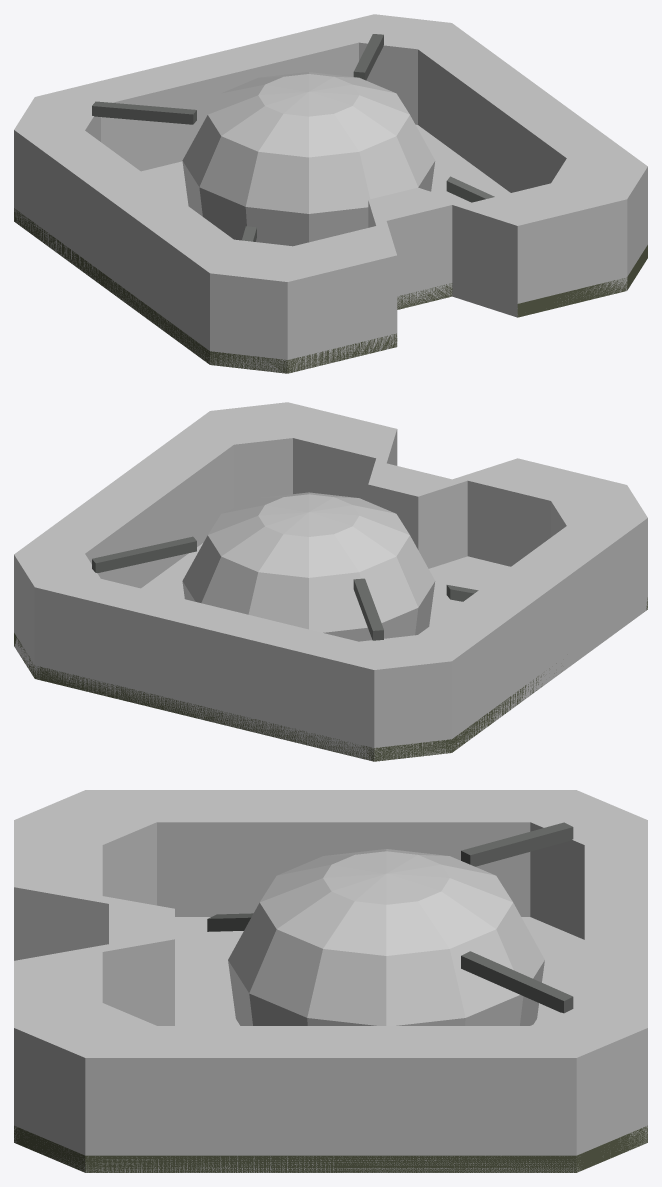
Rendered from mech_processor_a.obj.
3 renders of one model, top to bottom at view 1: azimuth 30°, elevation 25°; view 2: azimuth 150°, elevation 25°; view 3: azimuth 270°, elevation 25°, orthographic. The views are drawn at different scales.
Visible parts, largest first — view 1: mech_processor_a_26, mech_processor_a_8, mech_processor_a_24, mech_processor_a_4, mech_processor_a_12, mech_processor_a_20, mech_processor_a_10, mech_processor_a_0, mech_processor_a_16, mech_processor_a_18, mech_processor_a_2, mech_processor_a_22 (+10 smaller); view 2: mech_processor_a_4, mech_processor_a_26, mech_processor_a_8, mech_processor_a_24, mech_processor_a_12, mech_processor_a_6, mech_processor_a_0, mech_processor_a_20, mech_processor_a_22, mech_processor_a_2, mech_processor_a_25, mech_processor_a_16 (+13 smaller); view 3: mech_processor_a_24, mech_processor_a_26, mech_processor_a_8, mech_processor_a_4, mech_processor_a_0, mech_processor_a_22, mech_processor_a_25, mech_processor_a_2, mech_processor_a_6, mech_processor_a_10, mech_processor_a_14, mech_processor_a_12 (+14 smaller).
Part boxes in pixels (x1=…): mech_processor_a_26: x1=182, y1=72, x2=435, y2=246; mech_processor_a_8: x1=14, y1=130, x2=233, y2=358; mech_processor_a_24: x1=423, y1=23, x2=640, y2=192; mech_processor_a_4: x1=44, y1=16, x2=365, y2=171; mech_processor_a_12: x1=287, y1=226, x2=393, y2=373; mech_processor_a_20: x1=468, y1=185, x2=627, y2=302; mech_processor_a_10: x1=210, y1=240, x2=292, y2=372; mech_processor_a_0: x1=14, y1=208, x2=647, y2=373; mech_processor_a_16: x1=370, y1=188, x2=452, y2=309; mech_processor_a_18: x1=419, y1=188, x2=517, y2=317; mech_processor_a_2: x1=365, y1=14, x2=441, y2=124; mech_processor_a_22: x1=551, y1=161, x2=647, y2=273; mech_processor_a_4: x1=43, y1=578, x2=365, y2=759; mech_processor_a_26: x1=182, y1=492, x2=435, y2=641; mech_processor_a_8: x1=423, y1=522, x2=641, y2=748; mech_processor_a_24: x1=14, y1=416, x2=233, y2=588; mech_processor_a_12: x1=467, y1=459, x2=625, y2=566; mech_processor_a_6: x1=365, y1=635, x2=441, y2=761; mech_processor_a_0: x1=14, y1=597, x2=647, y2=761; mech_processor_a_20: x1=288, y1=402, x2=393, y2=501; mech_processor_a_22: x1=210, y1=403, x2=292, y2=504; mech_processor_a_2: x1=16, y1=553, x2=98, y2=676; mech_processor_a_25: x1=141, y1=543, x2=510, y2=626; mech_processor_a_16: x1=370, y1=463, x2=451, y2=545; mech_processor_a_24: x1=102, y1=1026, x2=576, y2=1172; mech_processor_a_26: x1=228, y1=849, x2=544, y2=1025; mech_processor_a_8: x1=102, y1=790, x2=575, y2=916; mech_processor_a_4: x1=584, y1=825, x2=647, y2=1022; mech_processor_a_0: x1=14, y1=1125, x2=647, y2=1172; mech_processor_a_22: x1=21, y1=1003, x2=149, y2=1171; mech_processor_a_25: x1=175, y1=917, x2=584, y2=1025; mech_processor_a_2: x1=530, y1=1005, x2=647, y2=1157; mech_processor_a_6: x1=530, y1=794, x2=647, y2=937; mech_processor_a_10: x1=22, y1=790, x2=149, y2=904; mech_processor_a_14: x1=14, y1=887, x2=173, y2=960; mech_processor_a_12: x1=14, y1=820, x2=102, y2=895.
Size of the model in its own units: 4 by 1.15 by 4.
